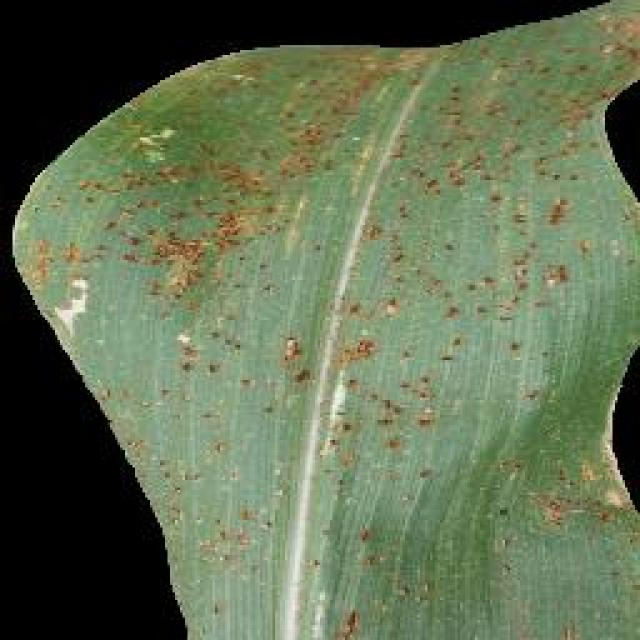Corn___Common_rust: (5, 25, 637, 640)
